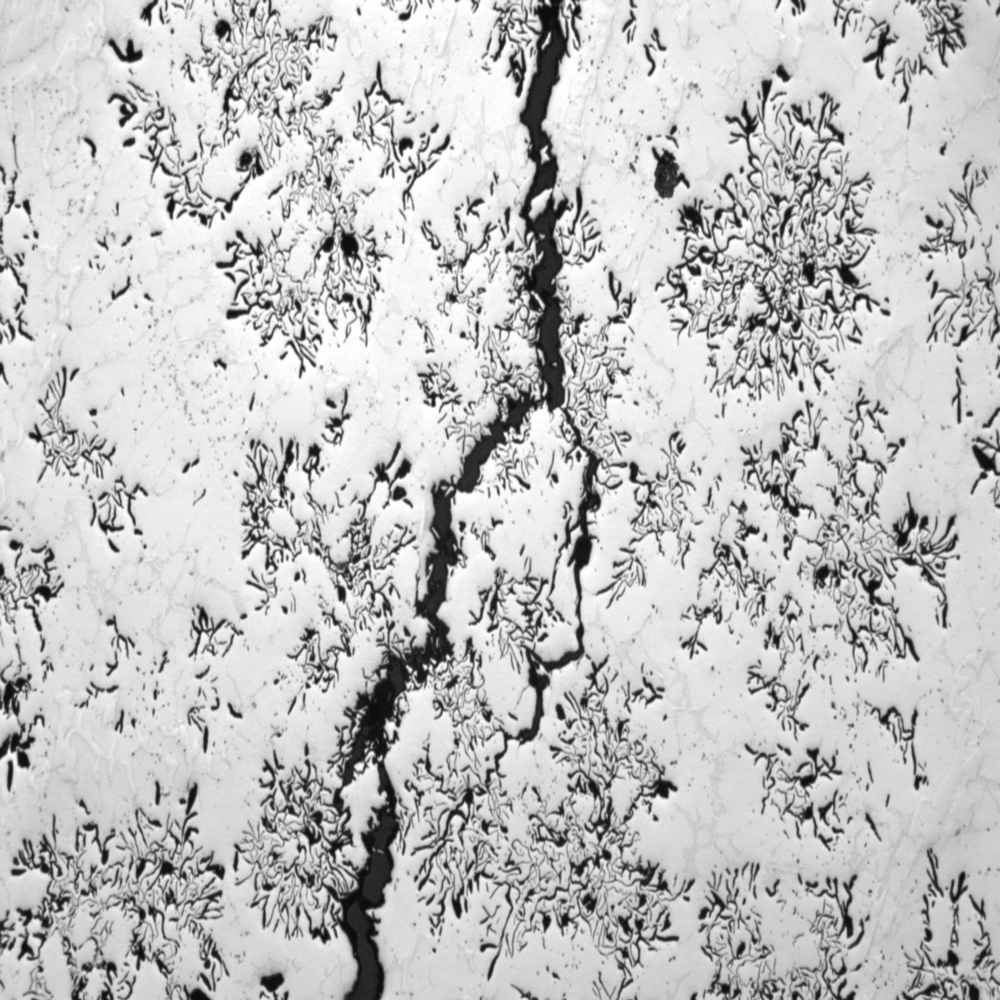crack: (273, 1, 671, 989), (110, 16, 422, 371), (693, 414, 945, 799), (665, 87, 883, 408), (1, 786, 213, 1000), (688, 853, 977, 1000)
